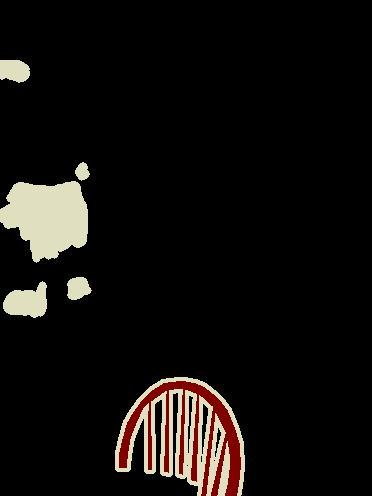chair: (106, 375, 244, 496)
